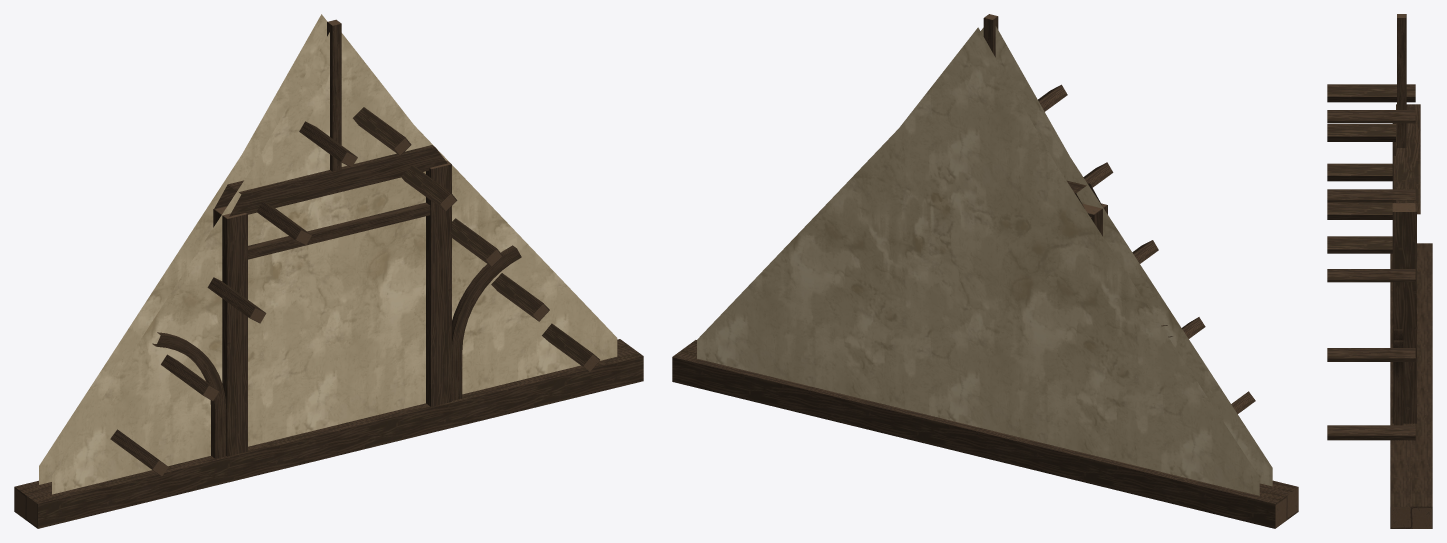
Rendered from Roof_Front_Brick6.gltf.
3 views of the same model, side by side, from view 1: azimuth 30°, elevation 25°; view 2: azimuth 150°, elevation 25°; view 3: azimuth 270°, elevation 25° (orthographic). The views are drawn at different scales.
Visible parts, largest first — view 1: Roof_Front_Brick6; view 2: Roof_Front_Brick6; view 3: Roof_Front_Brick6.
Part boxes in pixels (bbox=[...]): Roof_Front_Brick6: bbox=[14, 14, 643, 528]; Roof_Front_Brick6: bbox=[672, 14, 1298, 528]; Roof_Front_Brick6: bbox=[1327, 14, 1432, 528].
Size of the model in its own units: 6.69 by 4.52 by 1.13.
Materials: 2 (2 with a texture image).
